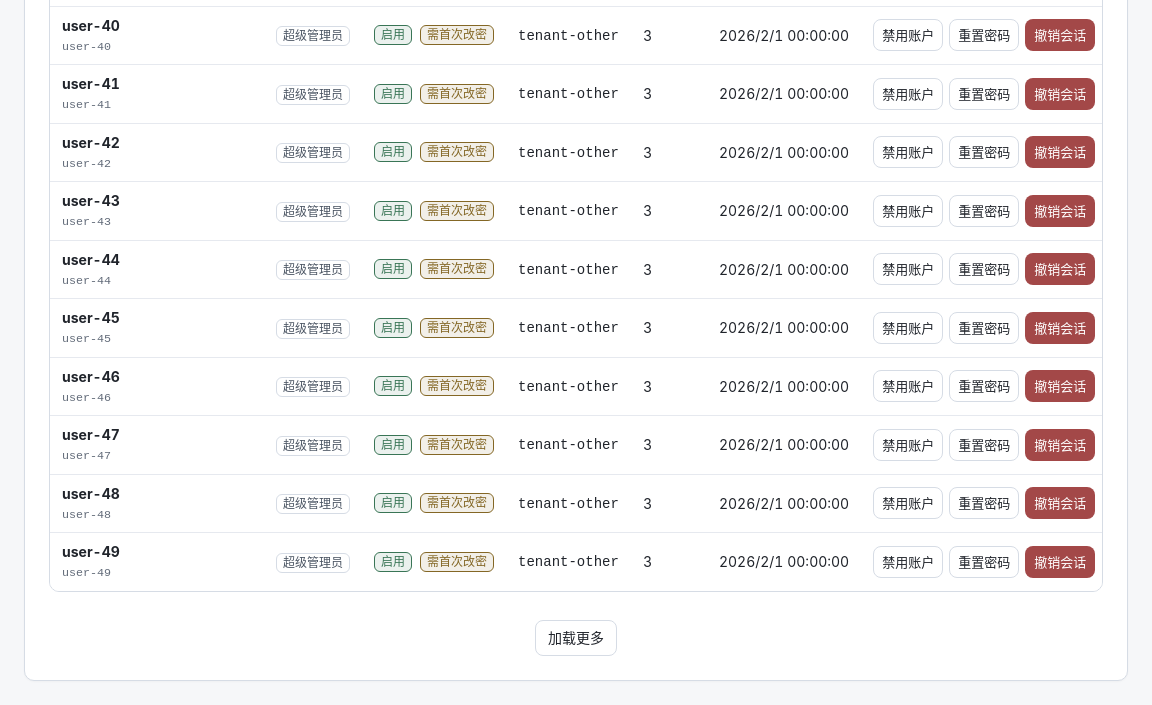
Test: UsersSettingsPage › keeps limit 50 and uses the loaded row count as the load-more offset
This screenshot has width=1152, height=705.
(page scrolled)
Click the button "加载更多": coordinates (576, 638) [535, 620, 617, 656]
(page scrolled)
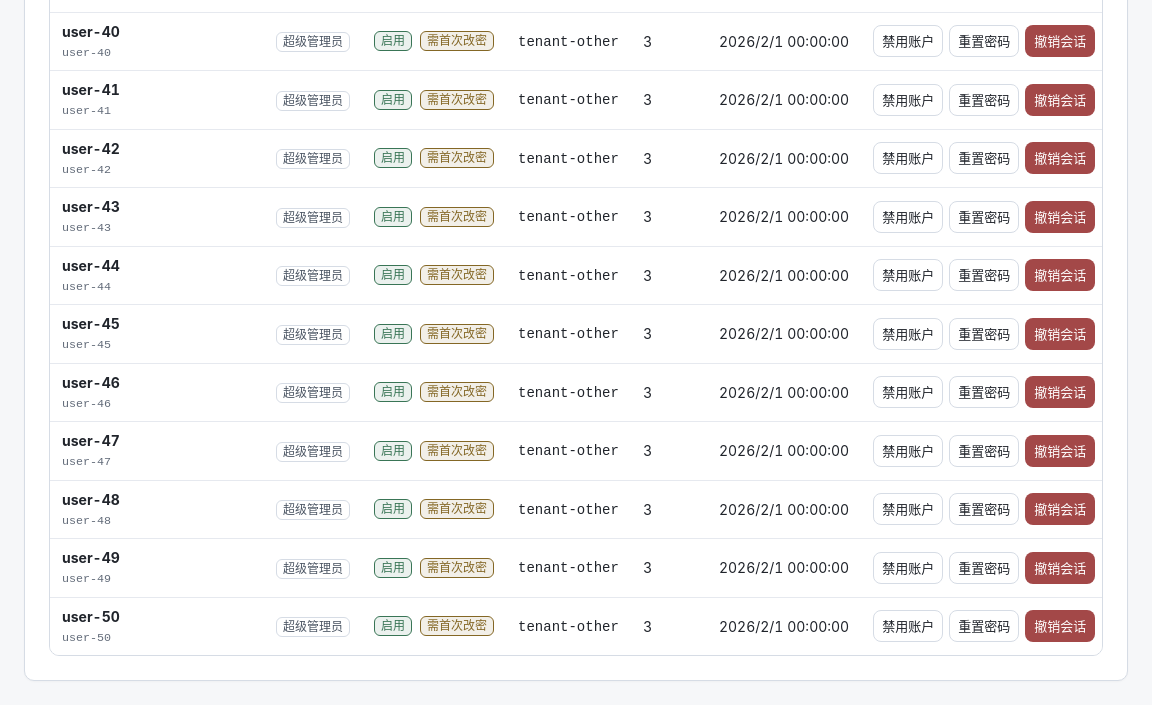
Expected: the text "user-50" is shown, [62, 608, 120, 624]
